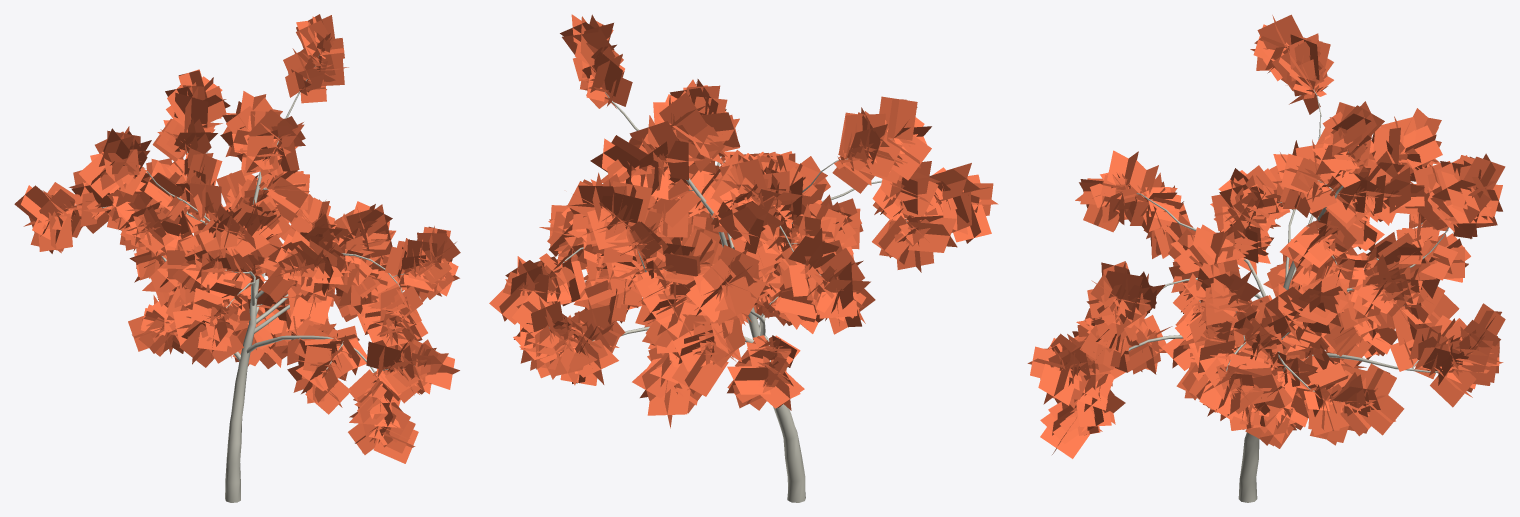
File: maple_red.glb
The picture shows the model from 3 angles, left to right: view 1: azimuth 30°, elevation 25°; view 2: azimuth 150°, elevation 25°; view 3: azimuth 270°, elevation 25°; orthographic projection. The views are drawn at different scales.
Visible parts, largest first — view 1: leaves, branches; view 2: leaves, branches; view 3: leaves, branches.
Boxes of the visible parts, left/top/right/bottom form: leaves: left=14, top=14, right=460, bottom=463; branches: left=101, top=54, right=414, bottom=502; leaves: left=489, top=14, right=998, bottom=428; branches: left=549, top=92, right=907, bottom=502; leaves: left=1027, top=14, right=1505, bottom=458; branches: left=1128, top=89, right=1448, bottom=502.
Size of the model in its own units: 39.8 by 44.91 by 41.62.
